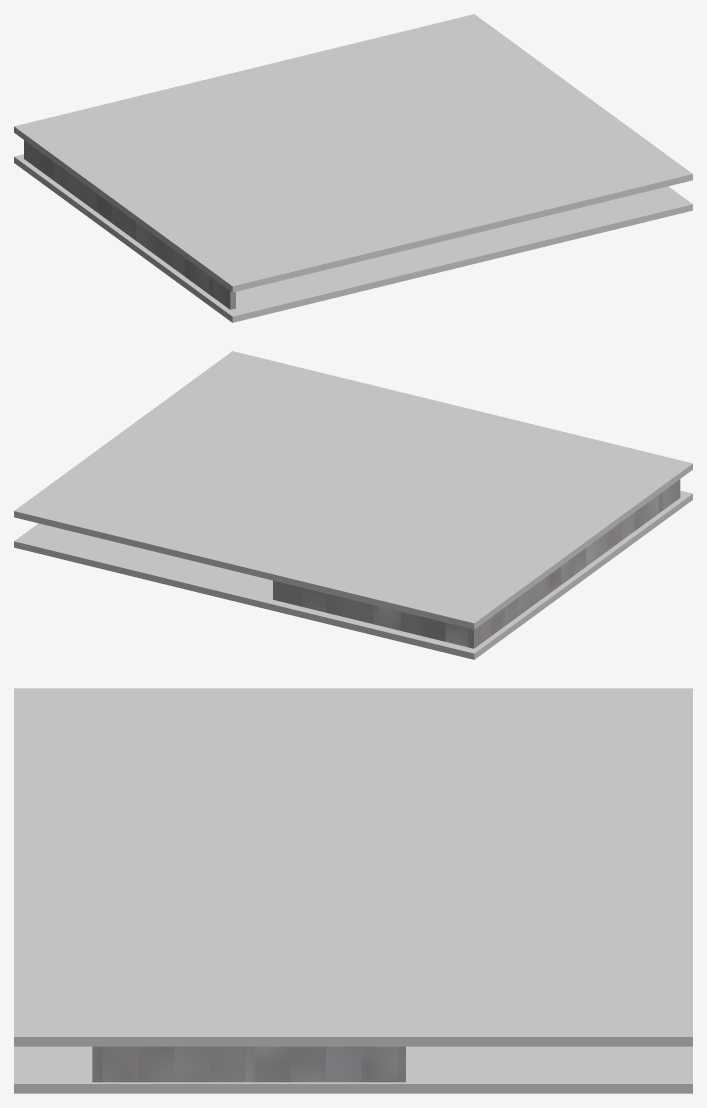
The model's file is Appartment.fbx.
3 views of the same model, one above another, from view 1: azimuth 30°, elevation 25°; view 2: azimuth 150°, elevation 25°; view 3: azimuth 270°, elevation 25° (orthographic). The views are drawn at different scales.
Visible parts, largest first — view 1: Roof, Ground, Walls; view 2: Roof, Ground, Walls; view 3: Roof, Ground, Walls.
Boxes of the visible parts, <box> form: Roof: <box>14,14,692,292</box>; Ground: <box>14,154,692,322</box>; Walls: <box>24,140,235,309</box>; Roof: <box>14,351,692,629</box>; Ground: <box>14,490,692,659</box>; Walls: <box>273,479,680,648</box>; Roof: <box>14,688,692,1046</box>; Ground: <box>14,1046,692,1093</box>; Walls: <box>92,1046,405,1082</box>.
Size of the model in its own units: 9557 by 724 by 7860.
1 material, 1 textured.
